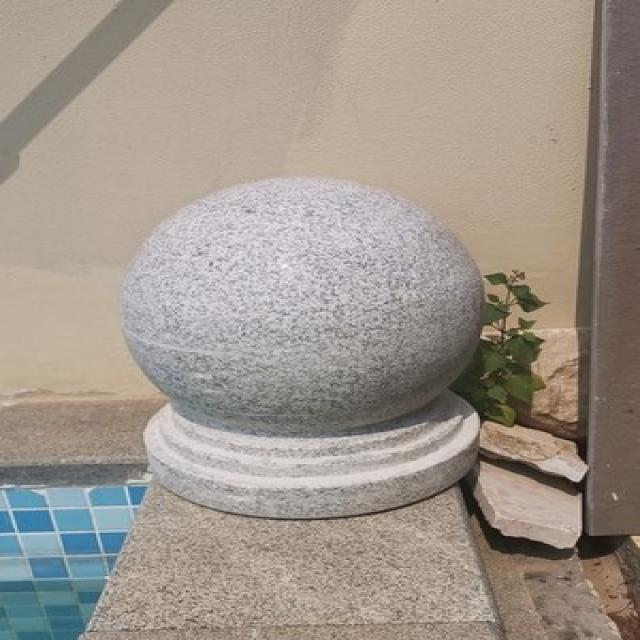spherical_roadblock: (121, 174, 488, 520)
